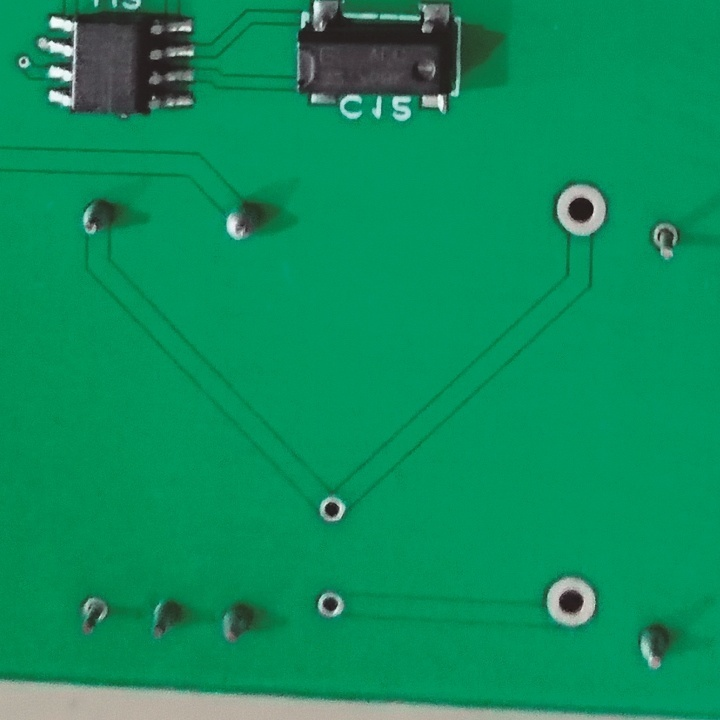F: (552, 178, 612, 238), (541, 571, 599, 632), (647, 218, 683, 263), (75, 595, 110, 638), (316, 491, 347, 526), (316, 585, 345, 620)
